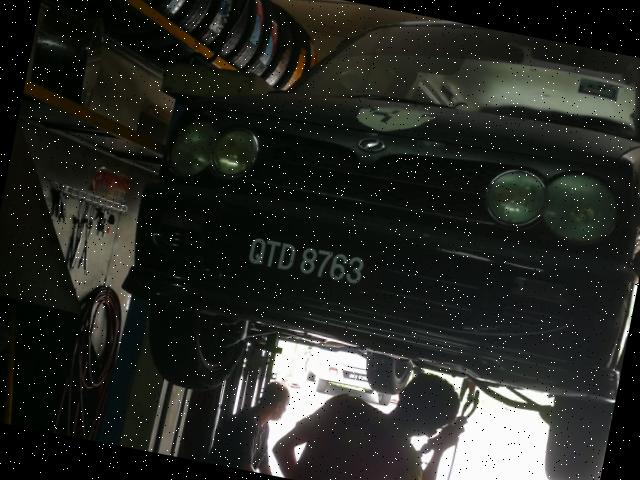License_Plate: (241, 232, 380, 294)
car: (110, 1, 640, 480)
